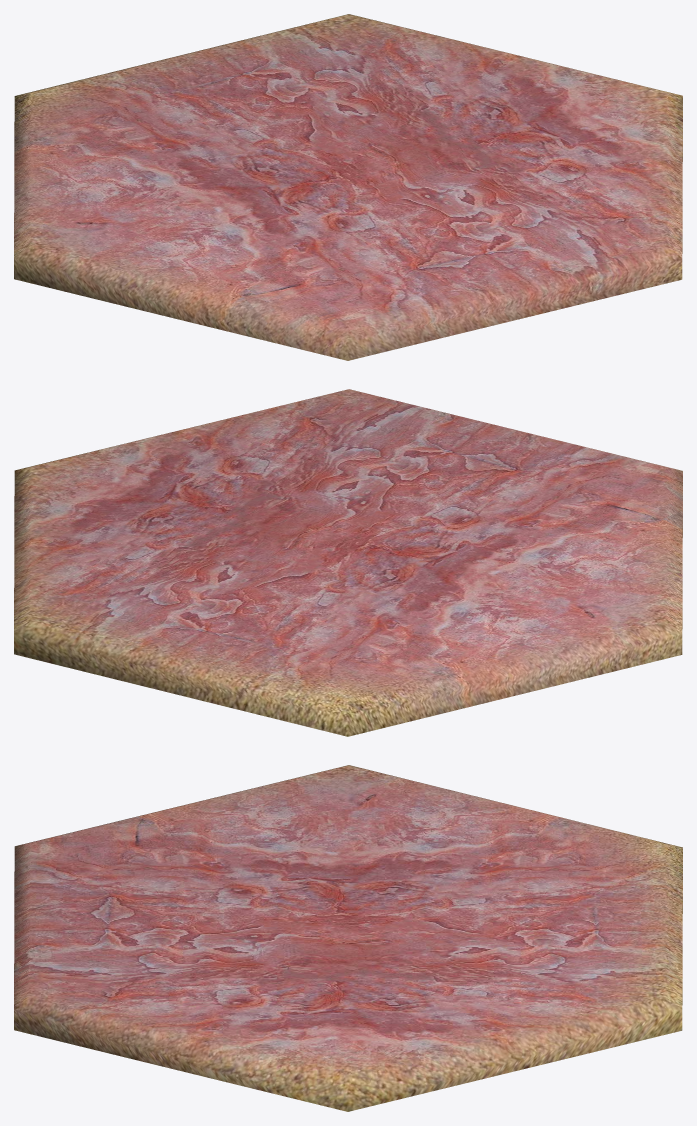
Rendered from greyhexlow.fbx.
3 views of the same model, one above another, from view 1: azimuth 30°, elevation 25°; view 2: azimuth 150°, elevation 25°; view 3: azimuth 270°, elevation 25° (orthographic).
Parts seen in each view (by area): view 1: Hexa; view 2: Hexa; view 3: Hexa.
Part boxes in pixels (<box>): Hexa: <box>14,14,682,360</box>; Hexa: <box>14,389,682,736</box>; Hexa: <box>14,765,682,1111</box>.
Size of the model in its own units: 961 by 39.88 by 833.
1 material, 1 textured.
